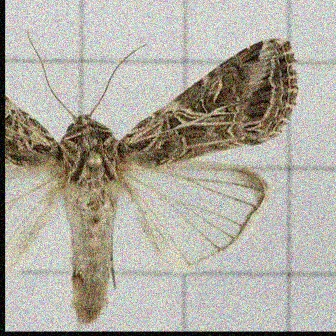Spodoptera litura: (5, 29, 300, 325)
